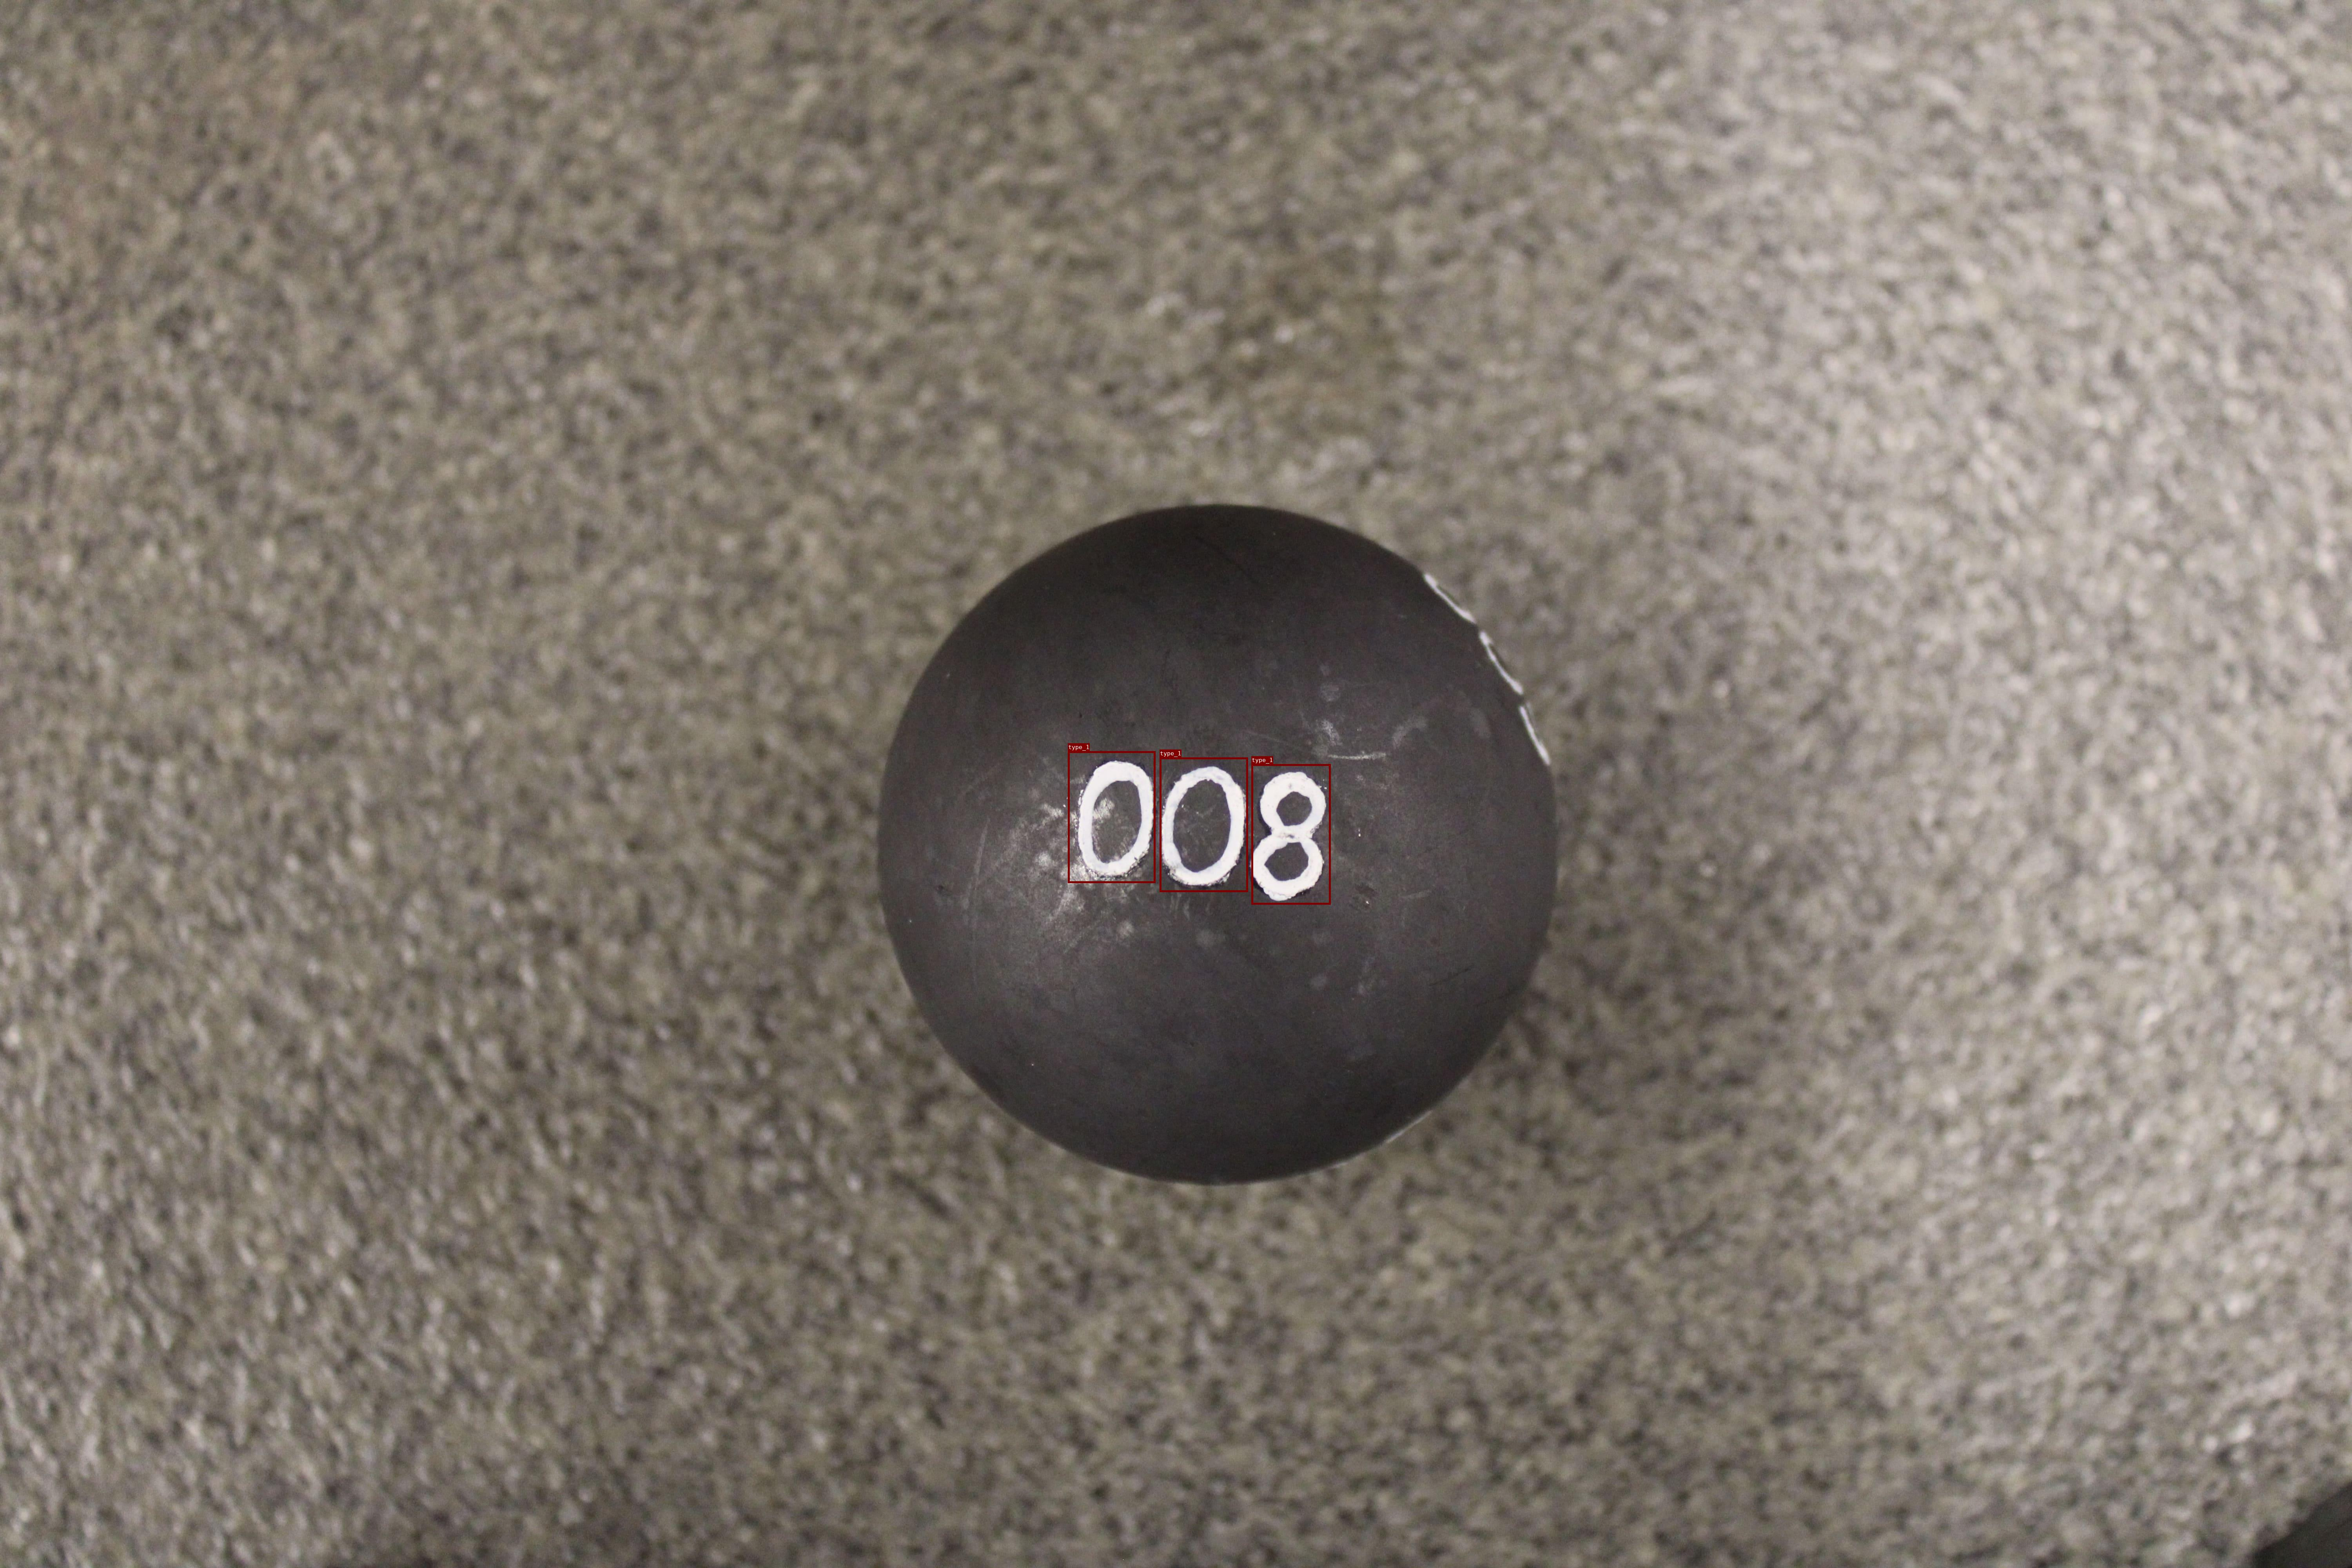type_1: (1160, 758, 1248, 892), (1067, 751, 1155, 882), (1251, 765, 1330, 905)
